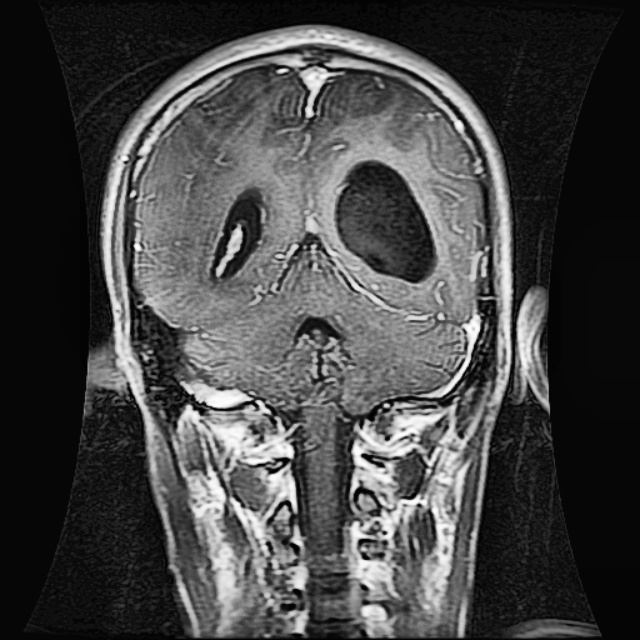Meningioma: (277, 75, 389, 147)
